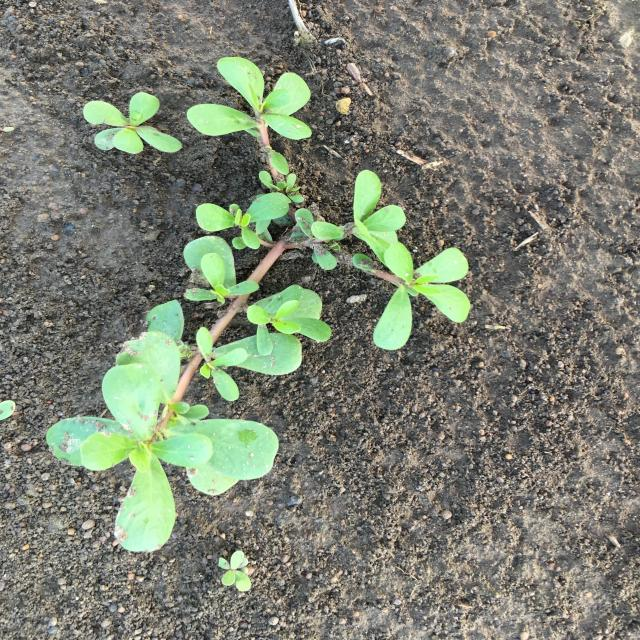Purslane: (47, 57, 470, 552), (83, 92, 183, 154), (218, 551, 251, 591)
